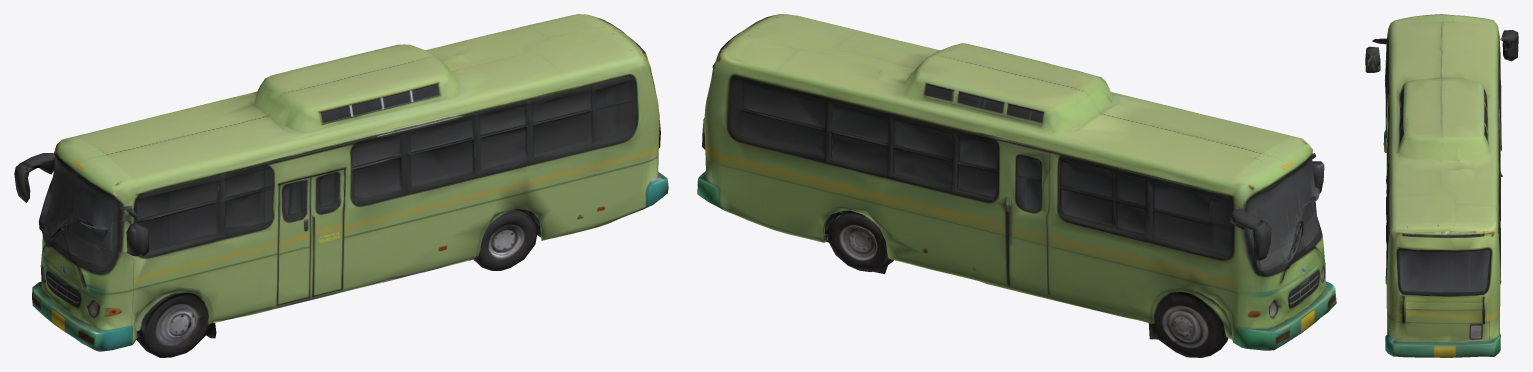
Rendered from IndianBus1.fbx.
3 renders of one model, left to right at view 1: azimuth 30°, elevation 25°; view 2: azimuth 150°, elevation 25°; view 3: azimuth 270°, elevation 25°, orthographic. The views are drawn at different scales.
Visible parts, largest first — view 1: IndianBus1; view 2: IndianBus1; view 3: IndianBus1.
Boxes of the visible parts, x1,y1,x2,y2 form: IndianBus1: (14,14,668,357); IndianBus1: (697,14,1336,357); IndianBus1: (1365,14,1518,357).
Bounding box in the file's own units: 973 × 340 × 270.
1 material, 1 textured.
